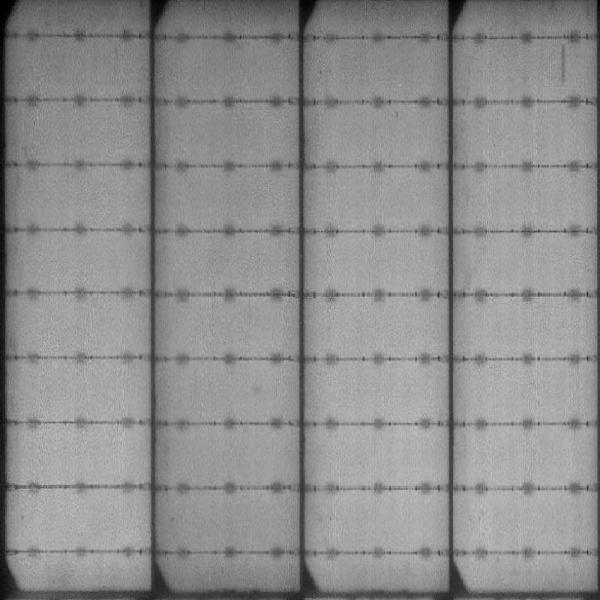scratch: (558, 36, 569, 85)
